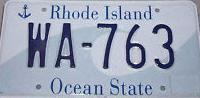placa de veiculo: (6, 1, 188, 95)
